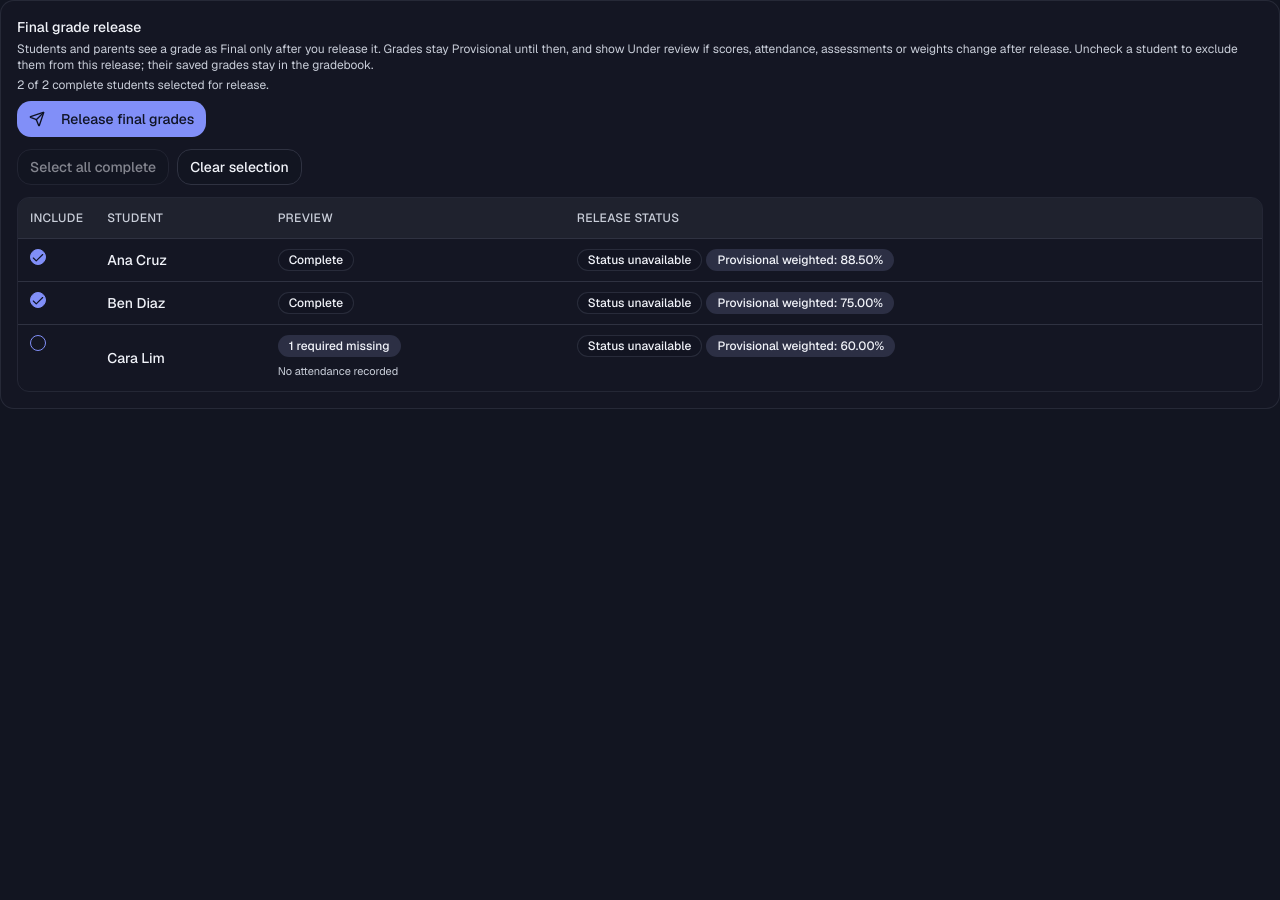
Test: FinalGradeReleasePanel › a partial release reports counts and incomplete names, then refreshes only the subject release query
Step 1. Click the button "Release final grades" → (112,119), box top-left (17, 101), bottom-right (206, 137)
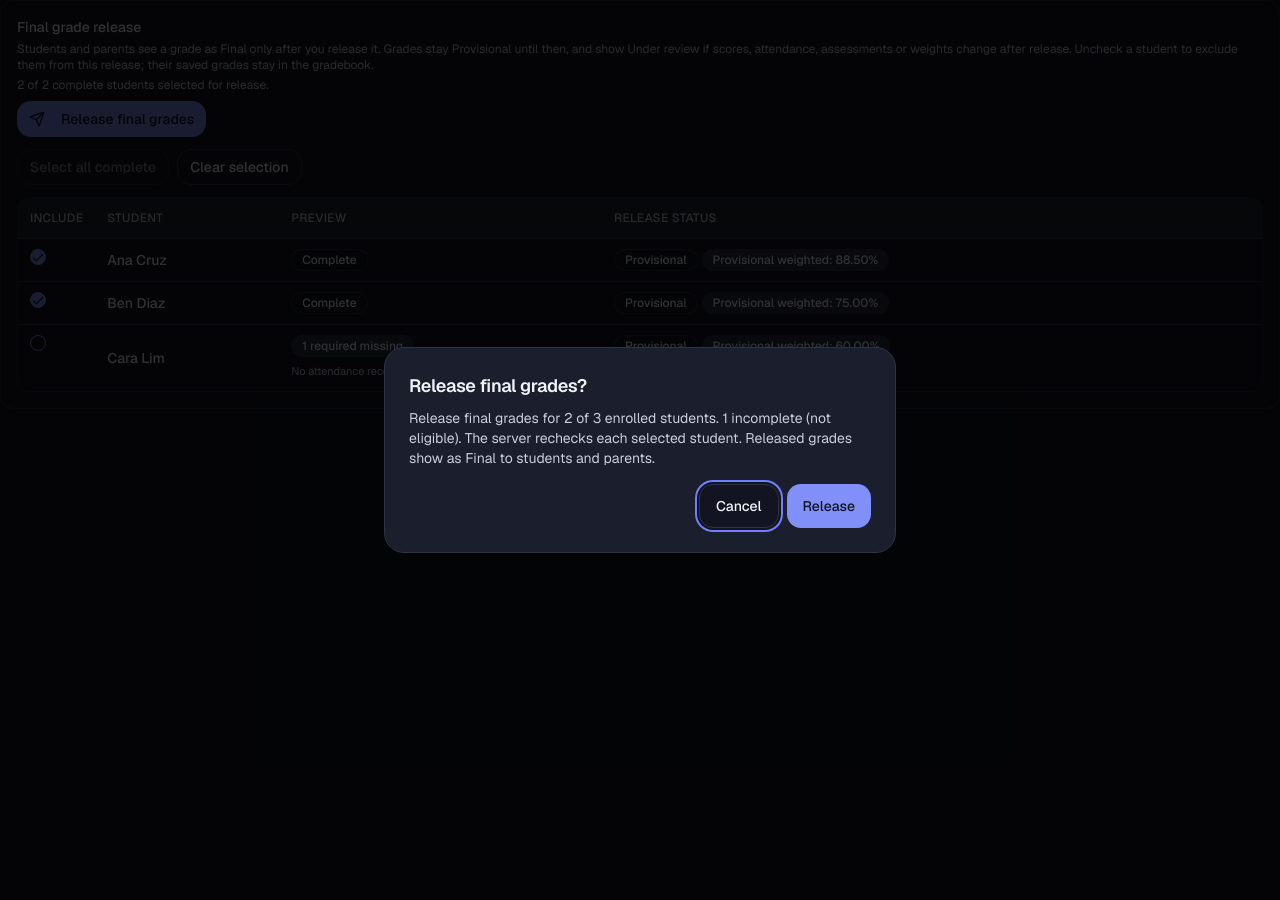
Result: the text "Release final grades for 2 of 3 enrolled students" is shown at top-left (409, 409), bottom-right (852, 467)
Step 2. Click the button "Release" → (829,506), box top-left (786, 484), bottom-right (871, 528)
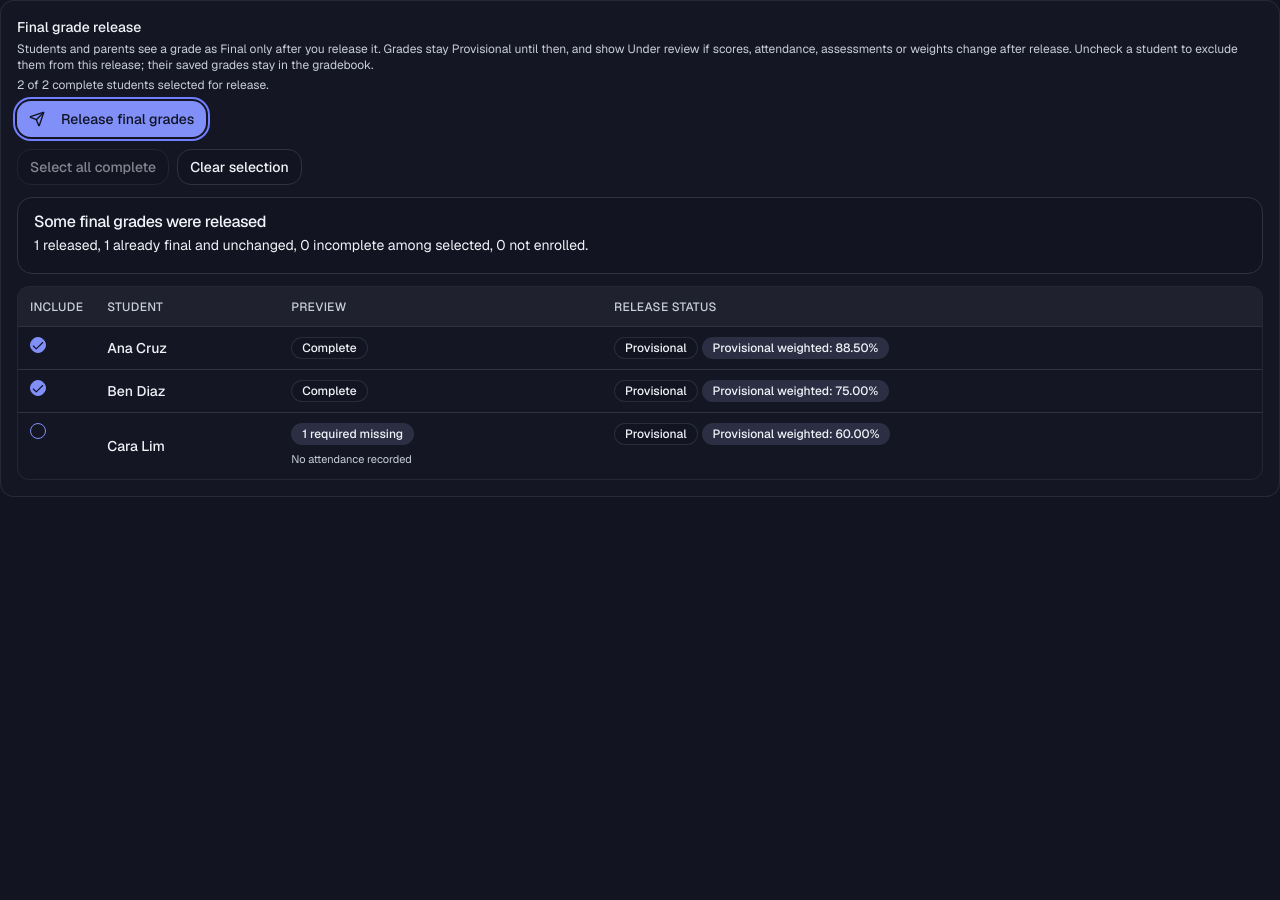
Result: the heading "Some final grades were released" is shown at top-left (34, 211), bottom-right (266, 232)
Result: the text "1 released, 1 already final and unchanged, 0 incomplete among selected" is shown at top-left (34, 236), bottom-right (588, 254)
